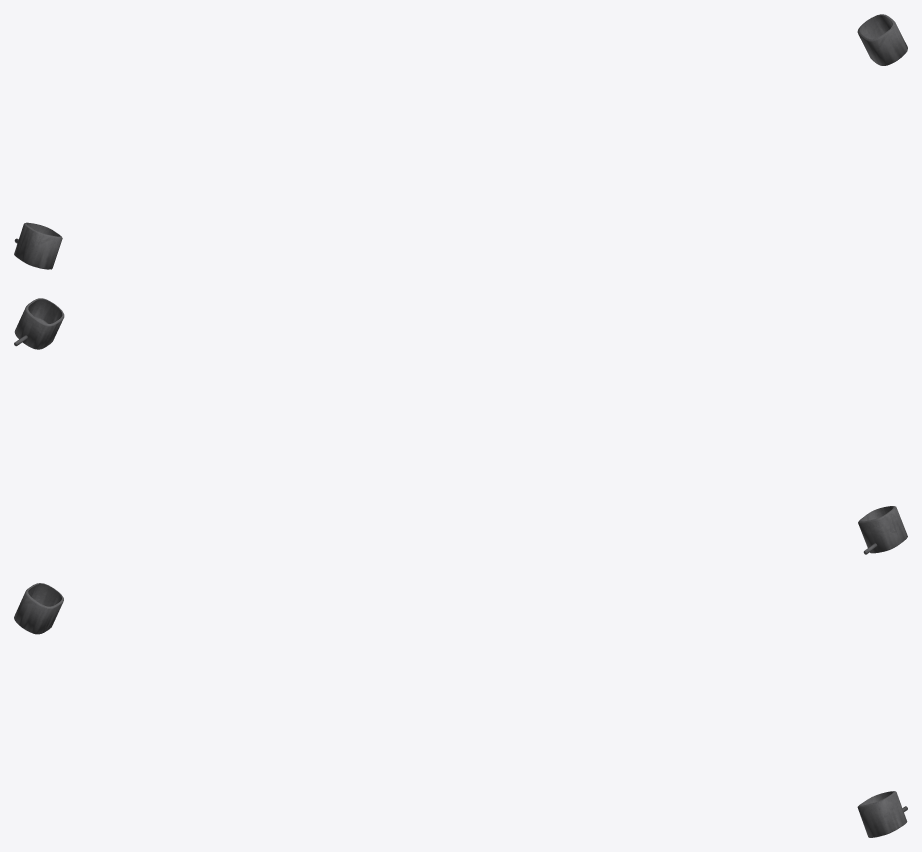
The model's file is skatepark.fbx_lamps_graffity_flowers.fbx.
3 renders of one model, top to bottom at view 1: azimuth 30°, elevation 25°; view 2: azimuth 150°, elevation 25°; view 3: azimuth 330°, elevation 25°, orthographic.
Parts seen in each view (by area): view 1: Lamp_Graffiti21, Lamp_Grafitti22; view 2: Lamp_Graffiti21, Lamp_Grafitti22; view 3: Lamp_Grafitti22, Lamp_Graffiti21.
Part boxes in pixels (left/top/right/bottom): Lamp_Graffiti21: left=857, top=14, right=907, bottom=65; Lamp_Grafitti22: left=14, top=222, right=62, bottom=269; Lamp_Graffiti21: left=14, top=298, right=64, bottom=349; Lamp_Grafitti22: left=858, top=506, right=907, bottom=554; Lamp_Grafitti22: left=14, top=583, right=63, bottom=634; Lamp_Graffiti21: left=857, top=791, right=907, bottom=837.
Bounding box in the file's own units: 751 × 32.77 × 44.43.
Materials: 1 (1 with a texture image).
